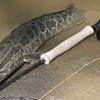Snakehead: (0, 1, 88, 97)
